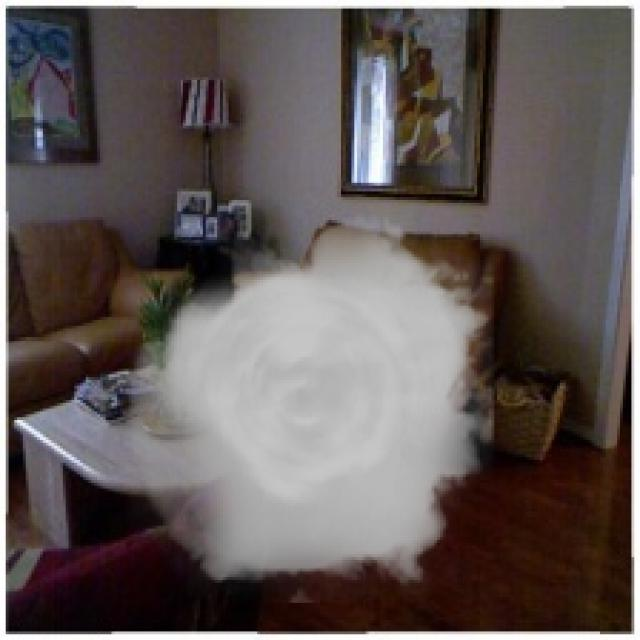smoke: (126, 203, 494, 603)
